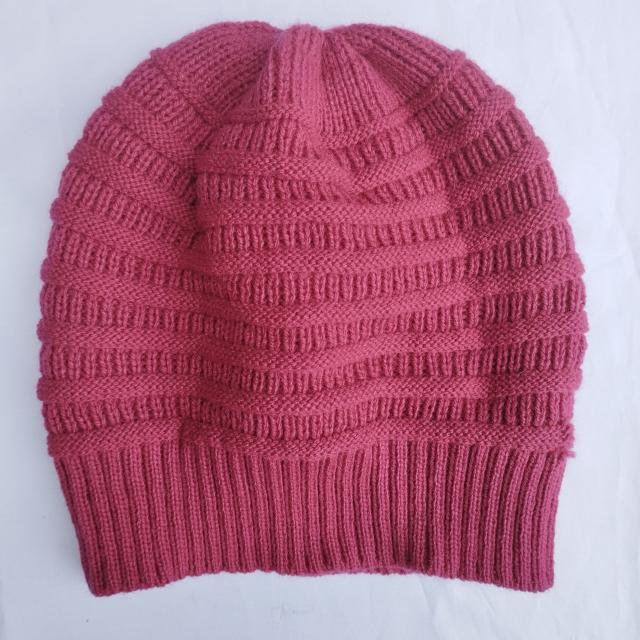Gorro: (36, 20, 590, 597)
